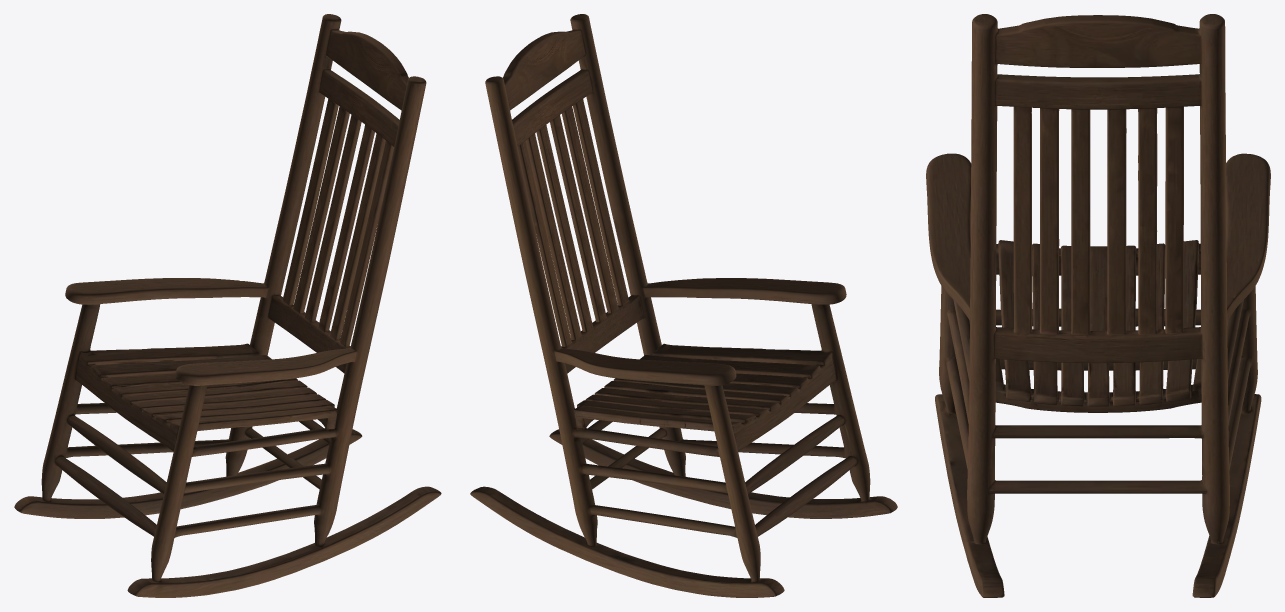
File: chaise.glb
3 views of the same model, side by side, from view 1: azimuth 30°, elevation 25°; view 2: azimuth 150°, elevation 25°; view 3: azimuth 270°, elevation 25° (orthographic). The views are drawn at different scales.
Visible parts, largest first — view 1: node_0; view 2: node_0; view 3: node_0.
Boxes of the visible parts, x1,y1,x2,y2 form: node_0: [14, 14, 441, 597]; node_0: [470, 14, 897, 597]; node_0: [926, 14, 1270, 597].
Size of the model in its own units: 71.38 by 96.33 by 48.88.
Materials: 1 (1 with a texture image).
